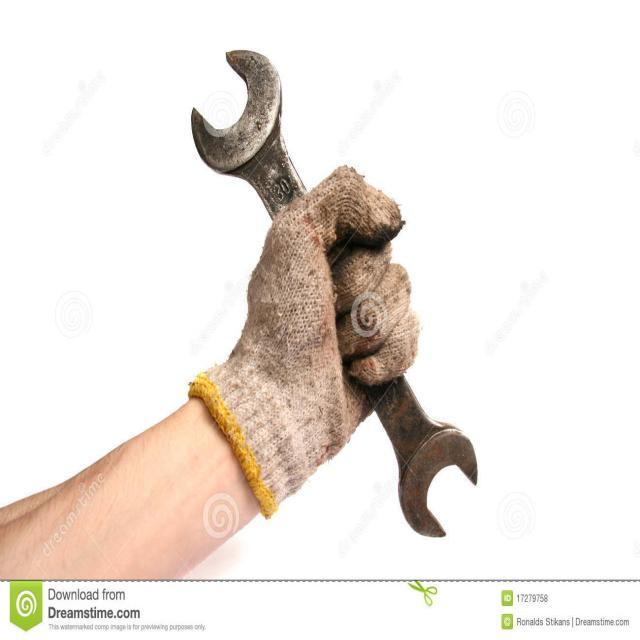wrench: (194, 28, 452, 314)
